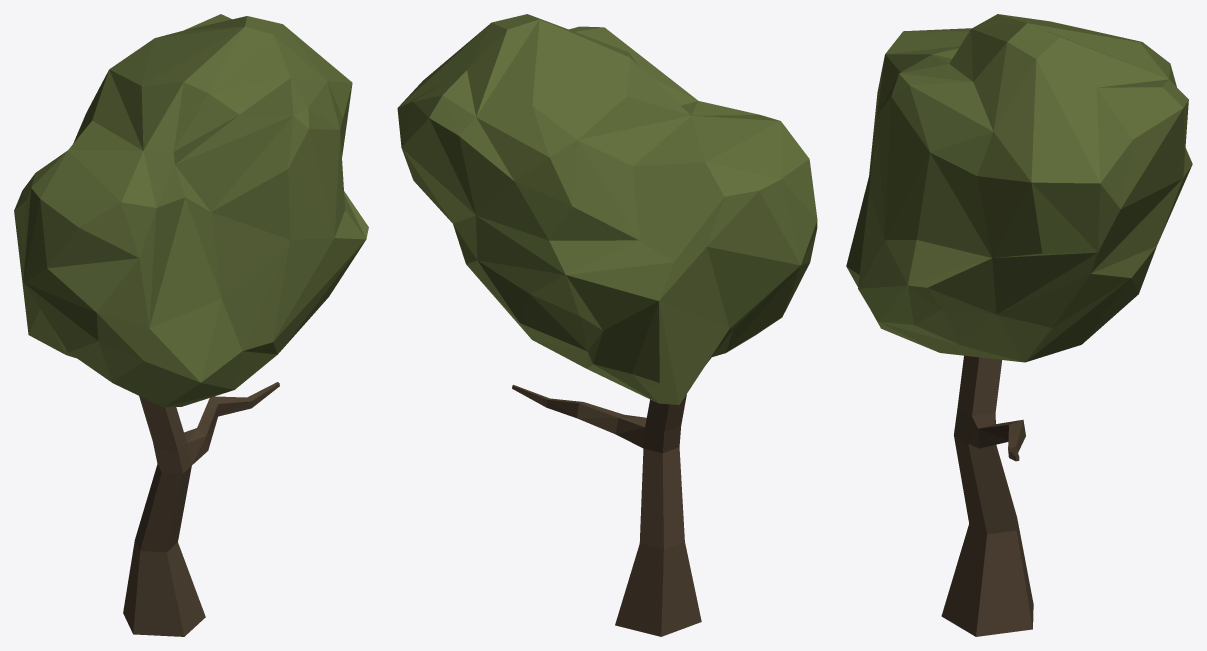
Rendered from SM_Env_Tree_05.gltf.
3 views of the same model, side by side, from view 1: azimuth 30°, elevation 25°; view 2: azimuth 150°, elevation 25°; view 3: azimuth 270°, elevation 25° (orthographic). The views are drawn at different scales.
Parts seen in each view (by area): view 1: SM_Env_Tree_05; view 2: SM_Env_Tree_05; view 3: SM_Env_Tree_05.
Boxes of the visible parts, x1,y1,x2,y2 form: SM_Env_Tree_05: [14, 14, 368, 636]; SM_Env_Tree_05: [397, 14, 817, 636]; SM_Env_Tree_05: [846, 14, 1192, 636].
Bounding box in the file's own units: 3.78 × 5.85 × 2.83.
1 material, 1 textured.
